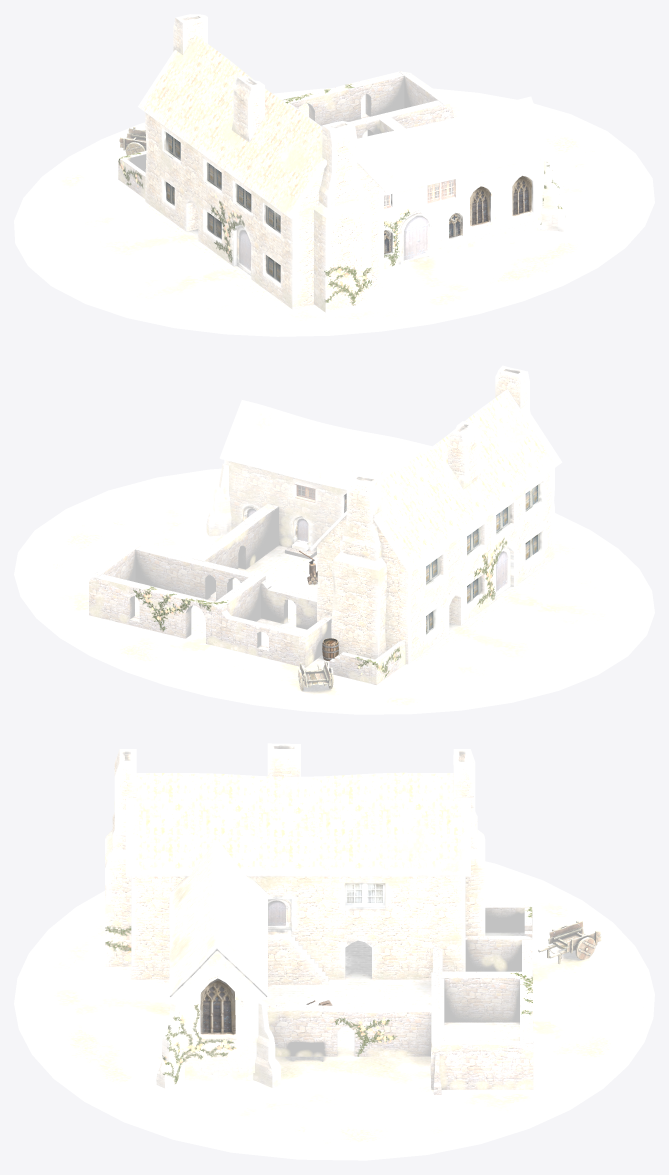
File: house.fbx
The picture shows the model from 3 angles, top to bottom: view 1: azimuth 30°, elevation 25°; view 2: azimuth 150°, elevation 25°; view 3: azimuth 270°, elevation 25°; orthographic projection. The views are drawn at different scales.
Visible parts, largest first — view 1: Ground_meshId0_name, House_meshId3_name, Chapel_meshId2_name, Walls_meshId1_name, Cart_meshId4_name; view 2: Ground_meshId0_name, House_meshId3_name, Walls_meshId1_name, Chapel_meshId2_name, Cart_meshId4_name; view 3: Ground_meshId0_name, House_meshId3_name, Walls_meshId1_name, Chapel_meshId2_name, Cart_meshId4_name.
Boxes of the visible parts, <box> form: Ground_meshId0_name: <box>14,88,654,336</box>; House_meshId3_name: <box>138,14,391,312</box>; Chapel_meshId2_name: <box>357,96,566,268</box>; Walls_meshId1_name: <box>118,71,453,198</box>; Cart_meshId4_name: <box>119,127,146,155</box>; Ground_meshId0_name: <box>14,468,654,714</box>; House_meshId3_name: <box>310,365,562,663</box>; Walls_meshId1_name: <box>89,503,405,684</box>; Chapel_meshId2_name: <box>206,400,431,554</box>; Cart_meshId4_name: <box>297,660,333,690</box>; Ground_meshId0_name: <box>14,861,654,1160</box>; House_meshId3_name: <box>105,743,485,984</box>; Walls_meshId1_name: <box>267,905,533,1094</box>; Chapel_meshId2_name: <box>156,839,280,1088</box>; Cart_meshId4_name: <box>538,920,601,964</box>.
Size of the model in its own units: 225 by 65.58 by 191.
Materials: 7 (7 with a texture image).
